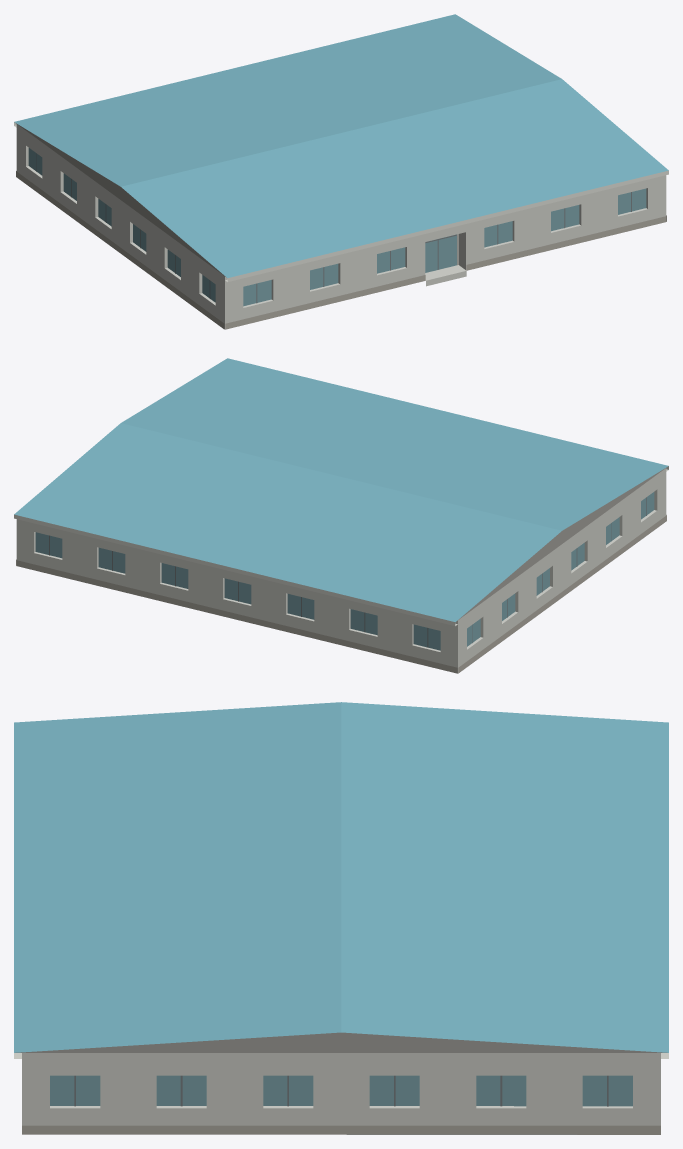
The picture shows the model from 3 angles, top to bottom: view 1: azimuth 30°, elevation 25°; view 2: azimuth 150°, elevation 25°; view 3: azimuth 270°, elevation 25°; orthographic projection. The views are drawn at different scales.
Parts seen in each view (by area): view 1: aux778946318__roofAccent, aux778946318__wall, aux778946318__glass, aux778946318__base, aux778946318__trim, aux778946318__wall2, aux778946318__entranceThreshold_0, aux778946318__frame; view 2: aux778946318__roofAccent, aux778946318__wall, aux778946318__glass, aux778946318__base, aux778946318__trim, aux778946318__wall2; view 3: aux778946318__roofAccent, aux778946318__wall, aux778946318__glass, aux778946318__wall2, aux778946318__base.
Boxes of the visible parts, <box> form: aux778946318__roofAccent: <box>14,14,668,277</box>; aux778946318__wall: <box>16,124,666,329</box>; aux778946318__glass: <box>28,148,646,306</box>; aux778946318__base: <box>16,171,666,329</box>; aux778946318__trim: <box>14,122,668,281</box>; aux778946318__wall2: <box>16,123,225,276</box>; aux778946318__entranceThreshold_0: <box>425,265,466,286</box>; aux778946318__frame: <box>36,153,631,303</box>; aux778946318__roofAccent: <box>14,358,668,622</box>; aux778946318__wall: <box>16,468,666,672</box>; aux778946318__glass: <box>35,492,654,650</box>; aux778946318__base: <box>16,515,666,673</box>; aux778946318__trim: <box>14,466,668,625</box>; aux778946318__wall2: <box>457,467,666,620</box>; aux778946318__roofAccent: <box>14,702,668,1052</box>; aux778946318__wall: <box>22,1053,660,1125</box>; aux778946318__glass: <box>50,1075,632,1106</box>; aux778946318__wall2: <box>15,1032,667,1052</box>; aux778946318__base: <box>22,1125,660,1134</box>.
Size of the model in its own units: 34.84 by 5.4 by 29.12.
